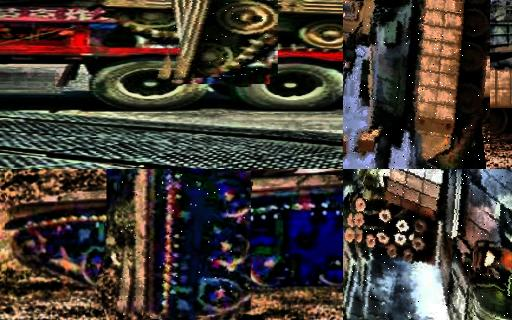tanks: (344, 1, 490, 170), (353, 170, 512, 320), (121, 170, 252, 318), (172, 1, 278, 80), (344, 170, 418, 252)
